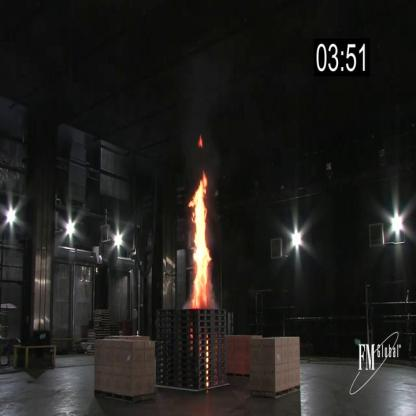fire: (185, 168, 214, 310), (194, 131, 204, 151)
